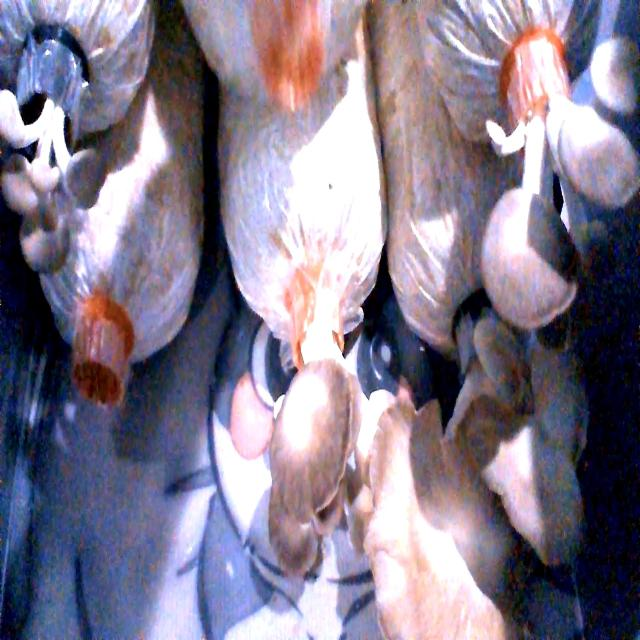big: (363, 354, 588, 640), (473, 28, 640, 331), (276, 342, 382, 580)
nfound: (260, 16, 339, 120), (64, 316, 130, 414)
small: (0, 80, 104, 280)
